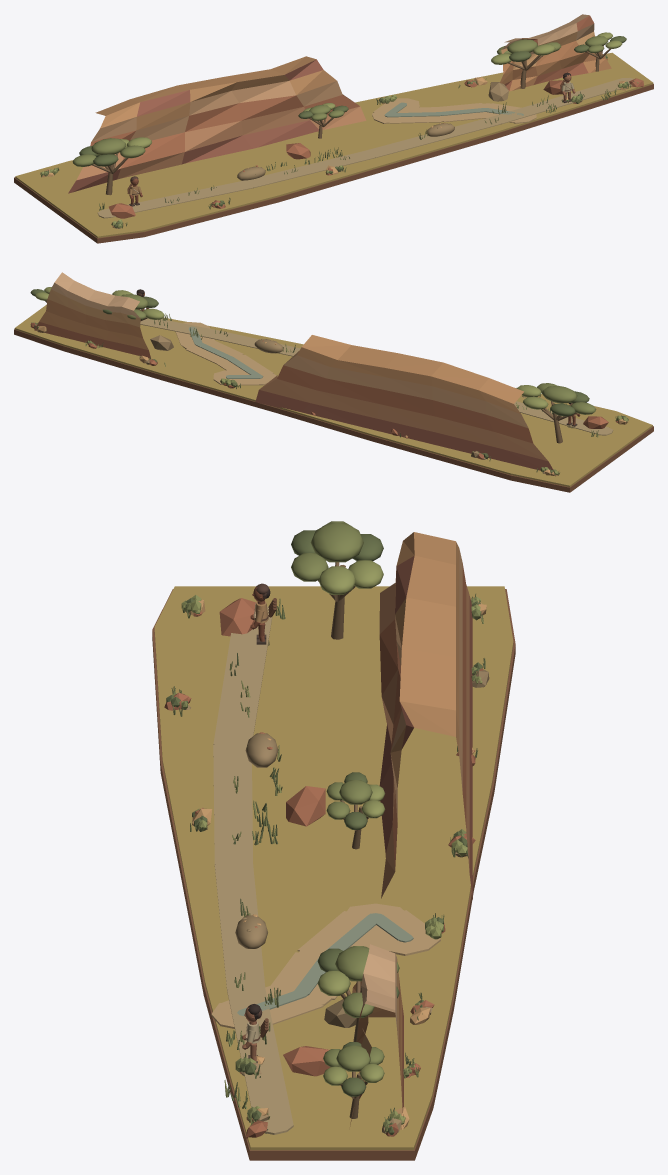
The model's file is olduvai.glb.
The picture shows the model from 3 angles, top to bottom: view 1: azimuth 30°, elevation 25°; view 2: azimuth 150°, elevation 25°; view 3: azimuth 270°, elevation 25°; orthographic projection. The views are drawn at different scales.
Visible parts, largest first — view 1: TerrainAndBuildings; view 2: TerrainAndBuildings; view 3: TerrainAndBuildings.
Part boxes in pixels (x1,y1,x2,y2): TerrainAndBuildings: [14, 14, 653, 243]; TerrainAndBuildings: [14, 272, 653, 492]; TerrainAndBuildings: [152, 521, 515, 1160].
Size of the model in its own units: 1.73 by 0.2129 by 0.4717.
